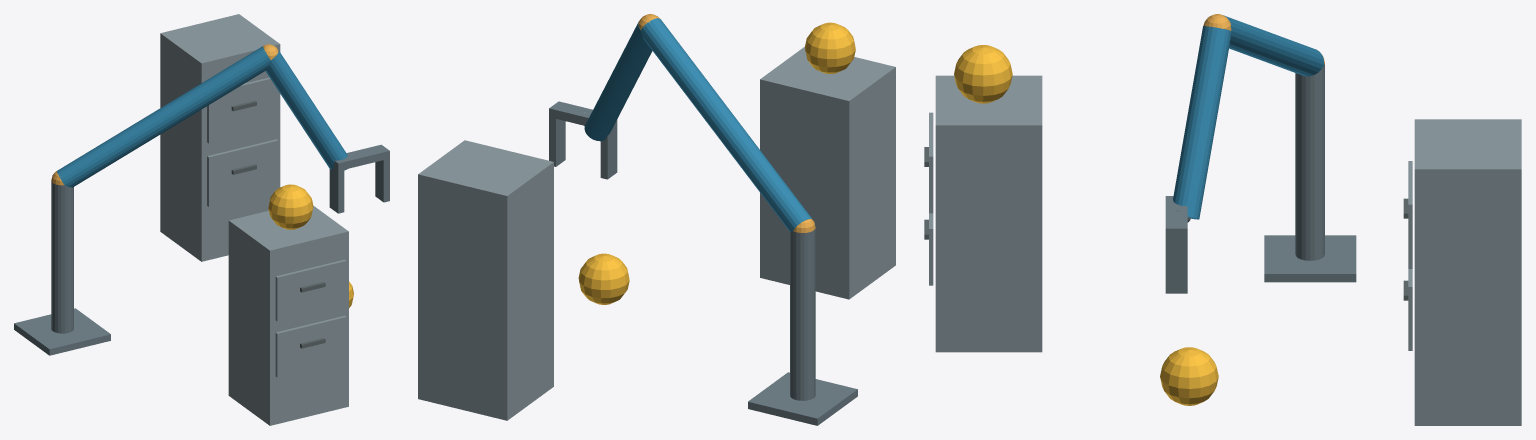
3 renders of one model, left to right at view 1: azimuth 30°, elevation 25°; view 2: azimuth 150°, elevation 25°; view 3: azimuth 270°, elevation 25°, orthographic. The views are drawn at different scales.
Visible parts, largest first — view 1: cabinet_1 body, cabinet_2 body, moving link 1, cabinet_2 drawer front, fixed post, cabinet_2 drawer front.001, cabinet_1 drawer front.001, cabinet_1 drawer front, moving link 2, pedestal, released ball_1, gripper bridge (+2 smaller); view 2: cabinet_2 body, cabinet_1 body, moving link 1, fixed post, pedestal, moving link 2, released ball_1, ball ball_2, gripper finger -1, gripper finger 1, gripper bridge; view 3: cabinet_2 body, cabinet_1 body, moving link 2, fixed post, pedestal, moving link 1, ball ball_2, released ball_1, gripper finger 1, gripper bridge.
Boxes of the visible parts, left/top/right/bottom form: cabinet_1 body: left=228, top=206, right=348, bottom=425; cabinet_2 body: left=160, top=14, right=280, bottom=261; moving link 1: left=56, top=46, right=270, bottom=187; cabinet_2 drawer front: left=207, top=139, right=278, bottom=206; fixed post: left=51, top=181, right=73, bottom=333; cabinet_2 drawer front.001: left=207, top=77, right=278, bottom=143; cabinet_1 drawer front.001: left=275, top=259, right=346, bottom=321; cabinet_1 drawer front: left=275, top=315, right=346, bottom=377; moving link 2: left=265, top=49, right=347, bottom=170; pedestal: left=14, top=308, right=110, bottom=355; released ball_1: left=268, top=184, right=313, bottom=229; gripper bridge: left=333, top=144, right=389, bottom=170; cabinet_2 body: left=418, top=140, right=553, bottom=420; cabinet_1 body: left=760, top=46, right=895, bottom=299; moving link 1: left=640, top=18, right=812, bottom=231; fixed post: left=790, top=227, right=815, bottom=400; pedestal: left=748, top=372, right=857, bottom=425; moving link 2: left=584, top=20, right=652, bottom=141; released ball_1: left=805, top=22, right=855, bottom=73; ball ball_2: left=578, top=253, right=629, bottom=304; gripper finger -1: left=600, top=125, right=617, bottom=179; gripper finger 1: left=549, top=117, right=565, bottom=166; gripper bridge: left=549, top=101, right=617, bottom=126; cabinet_2 body: left=1414, top=119, right=1521, bottom=425; cabinet_1 body: left=935, top=75, right=1042, bottom=352; moving link 2: left=1173, top=26, right=1231, bottom=219; fixed post: left=1295, top=63, right=1324, bottom=260; pedestal: left=1264, top=235, right=1356, bottom=282; moving link 1: left=1223, top=15, right=1323, bottom=76; ball ball_2: left=1160, top=347, right=1218, bottom=405; released ball_1: left=954, top=45, right=1012, bottom=103; gripper finger 1: left=1165, top=238, right=1187, bottom=293; gripper bridge: left=1165, top=196, right=1187, bottom=238.
Size of the model in its own units: 1.23 by 1.06 by 1.62.
